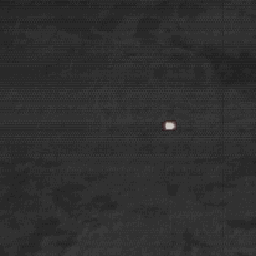Target: (163, 121, 176, 130)
